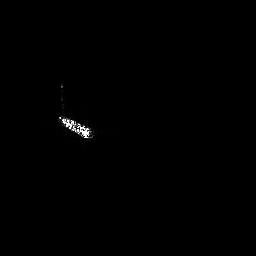ship: (56, 113, 96, 140)
